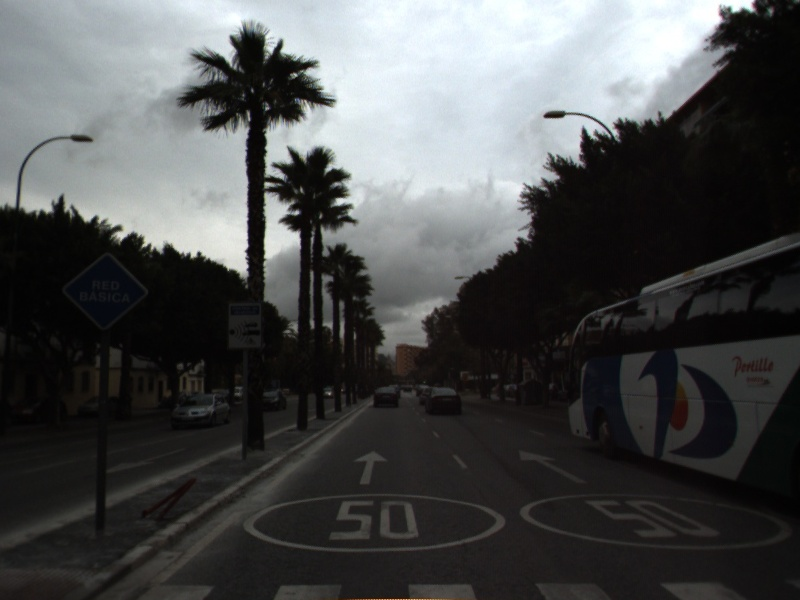STRAIGHT: (516, 447, 590, 486), (351, 448, 391, 486)
